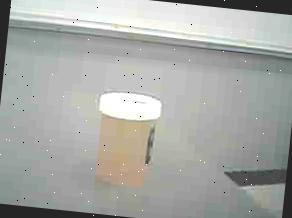Bottle B: (82, 80, 174, 198)
